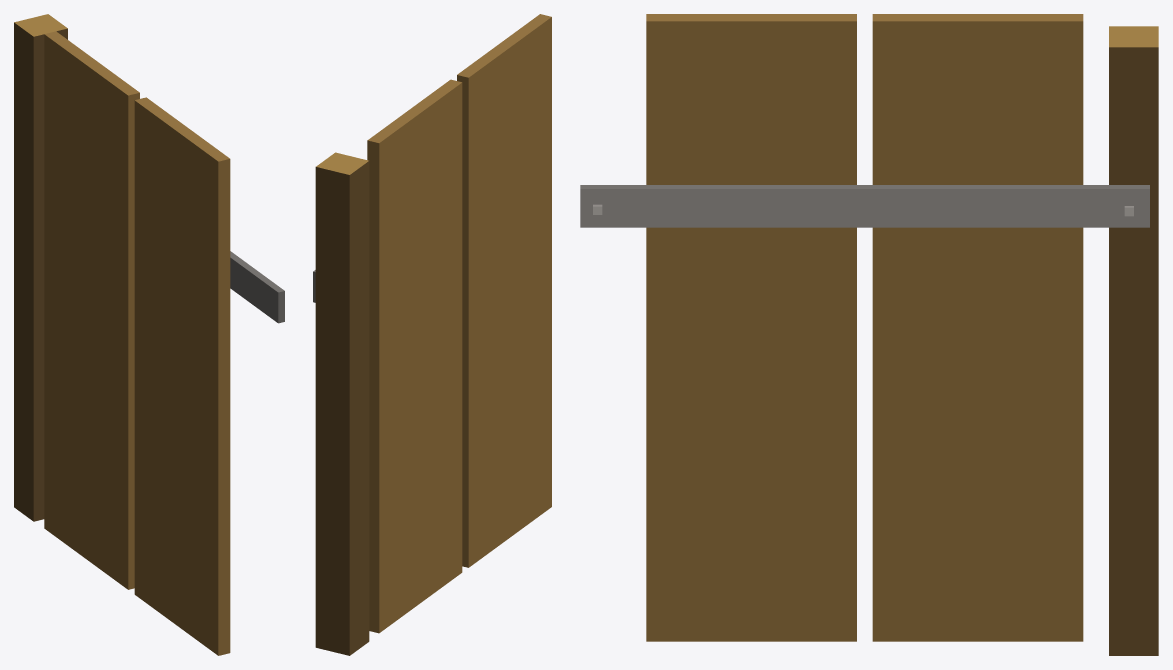
The model's file is FenceWoodL_Plain_02.fbx.
3 renders of one model, left to right at view 1: azimuth 30°, elevation 25°; view 2: azimuth 150°, elevation 25°; view 3: azimuth 270°, elevation 25°, orthographic. The views are drawn at different scales.
Visible parts, largest first — view 1: FenceWoodL_Plain_02; view 2: FenceWoodL_Plain_02; view 3: FenceWoodL_Plain_02.
Part boxes in pixels (bbox=[...]): FenceWoodL_Plain_02: bbox=[14, 14, 284, 655]; FenceWoodL_Plain_02: bbox=[313, 14, 551, 655]; FenceWoodL_Plain_02: bbox=[580, 14, 1158, 655].
Bounding box in the file's own units: 0.5555 × 5.09 × 6.03.
